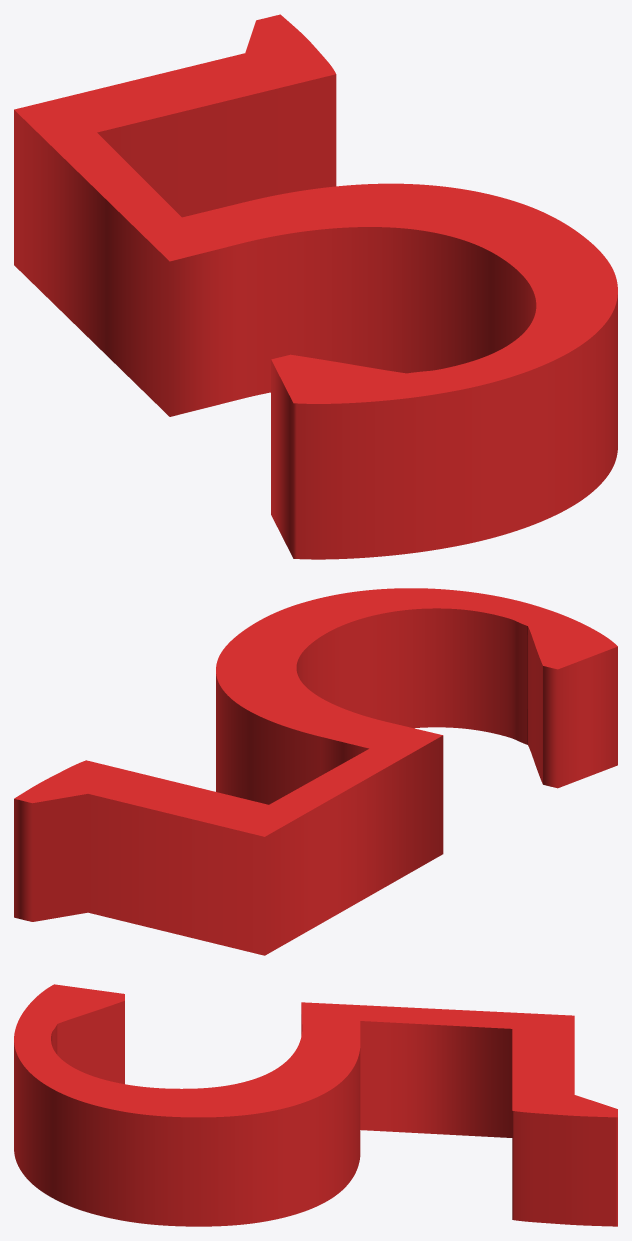
The model's file is five.glb.
3 renders of one model, top to bottom at view 1: azimuth 30°, elevation 25°; view 2: azimuth 150°, elevation 25°; view 3: azimuth 270°, elevation 25°, orthographic. The views are drawn at different scales.
Visible parts, largest first — view 1: Текст; view 2: Текст; view 3: Текст.
Part boxes in pixels (box(x1,y1,x2,y2)): Текст: box(14, 14, 617, 559); Текст: box(14, 588, 617, 955); Текст: box(14, 984, 617, 1226).
Size of the model in its own units: 0.3137 by 0.12 by 0.6016.
